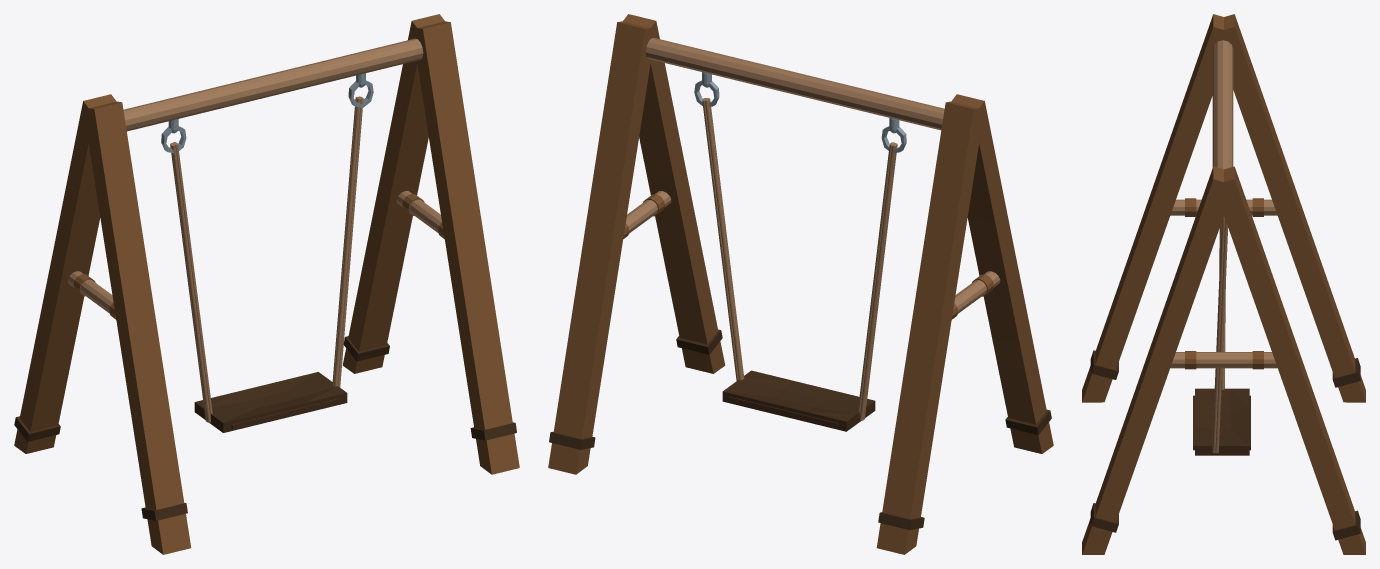
Rendered from familySwing.glb.
The picture shows the model from 3 angles, left to right: view 1: azimuth 30°, elevation 25°; view 2: azimuth 150°, elevation 25°; view 3: azimuth 270°, elevation 25°; orthographic projection. The views are drawn at different scales.
Visible parts, largest first — view 1: SwingFrame, SwingSeat; view 2: SwingFrame, SwingSeat; view 3: SwingFrame, SwingSeat.
Part boxes in pixels (x1,y1,x2,y2): SwingFrame: (14, 14, 519, 554); SwingSeat: (161, 80, 373, 432); SwingFrame: (548, 14, 1053, 554); SwingSeat: (694, 80, 906, 431); SwingFrame: (1082, 14, 1365, 554); SwingSeat: (1193, 216, 1250, 455).
Bounding box in the file's own units: 184 × 192 × 132.
1 material, 1 textured.
